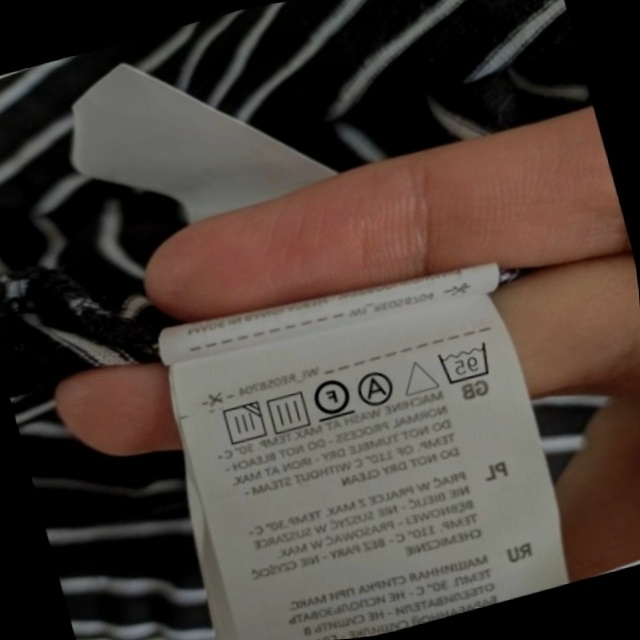95C: (432, 337, 497, 389)
bleach: (397, 351, 441, 401)
drip_dry: (261, 386, 315, 438)
drip_dry_in_shade: (215, 397, 270, 451)
dry_clean: (353, 365, 400, 411)
dry_clean_petrol_only: (307, 370, 356, 425)
